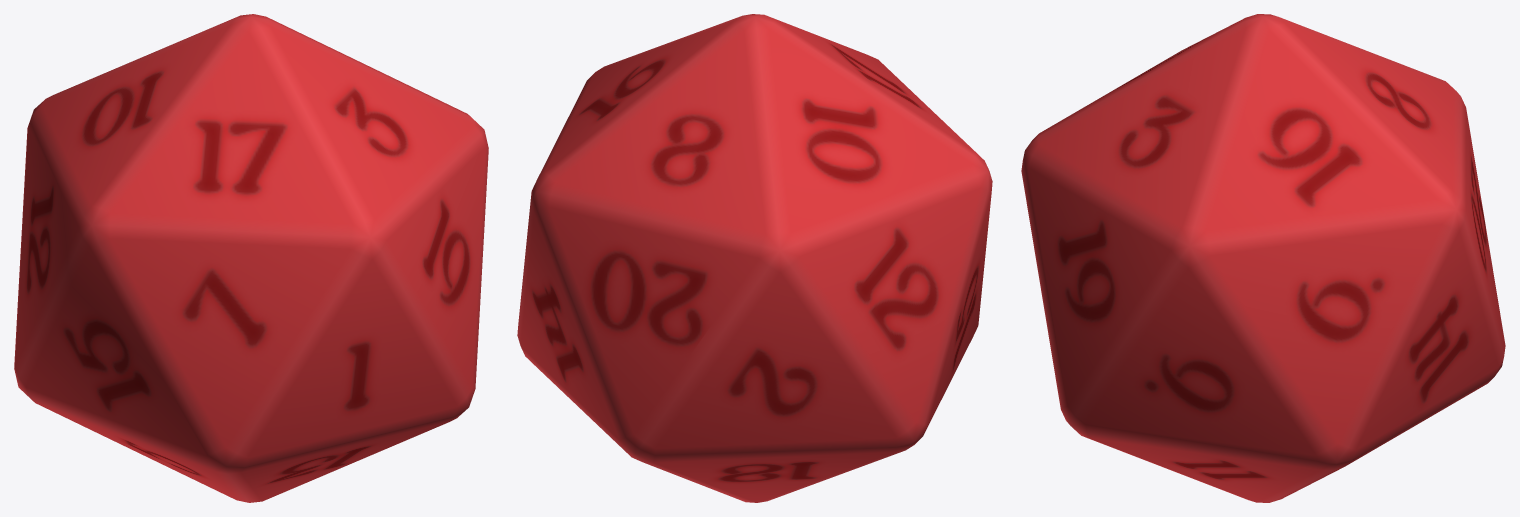
File: d20-red.glb
3 renders of one model, left to right at view 1: azimuth 30°, elevation 25°; view 2: azimuth 150°, elevation 25°; view 3: azimuth 270°, elevation 25°, orthographic.
Parts seen in each view (by area): view 1: D20_red; view 2: D20_red; view 3: D20_red.
Part boxes in pixels (x1,y1,x2,y2): D20_red: (14, 14, 488, 502); D20_red: (517, 14, 992, 502); D20_red: (1021, 14, 1505, 502).
Size of the model in its own units: 0.8402 by 0.9648 by 0.8757.
1 material, 1 textured.
